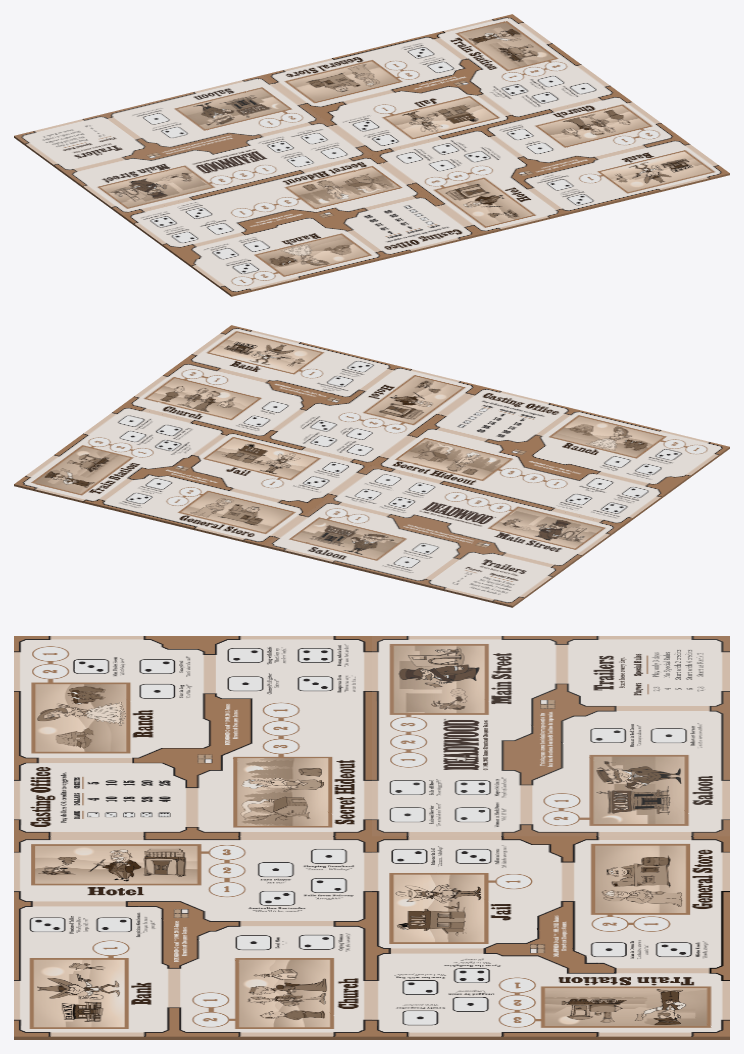
The model's file is Board.fbx.
3 views of the same model, one above another, from view 1: azimuth 30°, elevation 25°; view 2: azimuth 150°, elevation 25°; view 3: azimuth 270°, elevation 25° (orthographic). The views are drawn at different scales.
Parts seen in each view (by area): view 1: Board.001, Board.003, Board.002, Board.004; view 2: Board.002, Board.004, Board.001, Board.003; view 3: Board.003, Board.004, Board.001, Board.002.
Part boxes in pixels (x1,y1,x2,y2): Board.001: (122, 154, 480, 296); Board.003: (372, 94, 729, 235); Board.002: (14, 75, 371, 216); Board.004: (264, 14, 620, 154); Board.002: (263, 465, 621, 607); Board.004: (14, 405, 371, 546); Board.001: (372, 386, 729, 527); Board.003: (123, 325, 479, 465); Board.003: (14, 836, 371, 1039); Board.004: (372, 836, 729, 1039); Board.001: (14, 636, 371, 836); Board.002: (372, 636, 729, 836).
Size of the model in its own units: 539 by 1.99 by 407.
